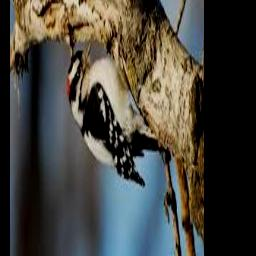Woodpecker: (68, 38, 165, 187)
